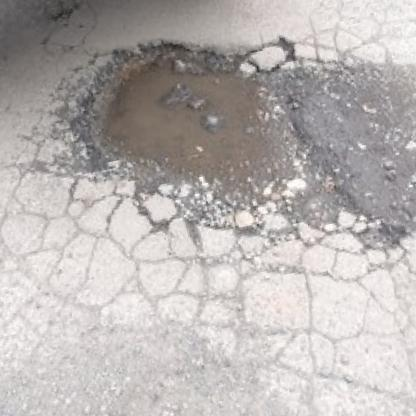pothole: (67, 23, 283, 209)
